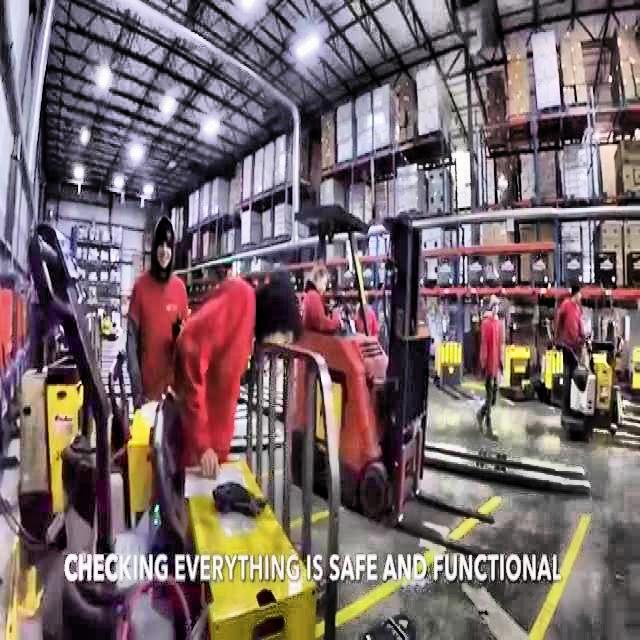bull_dozer/loader/grader: (285, 199, 433, 526)
person: (123, 212, 191, 414), (478, 290, 508, 441)
